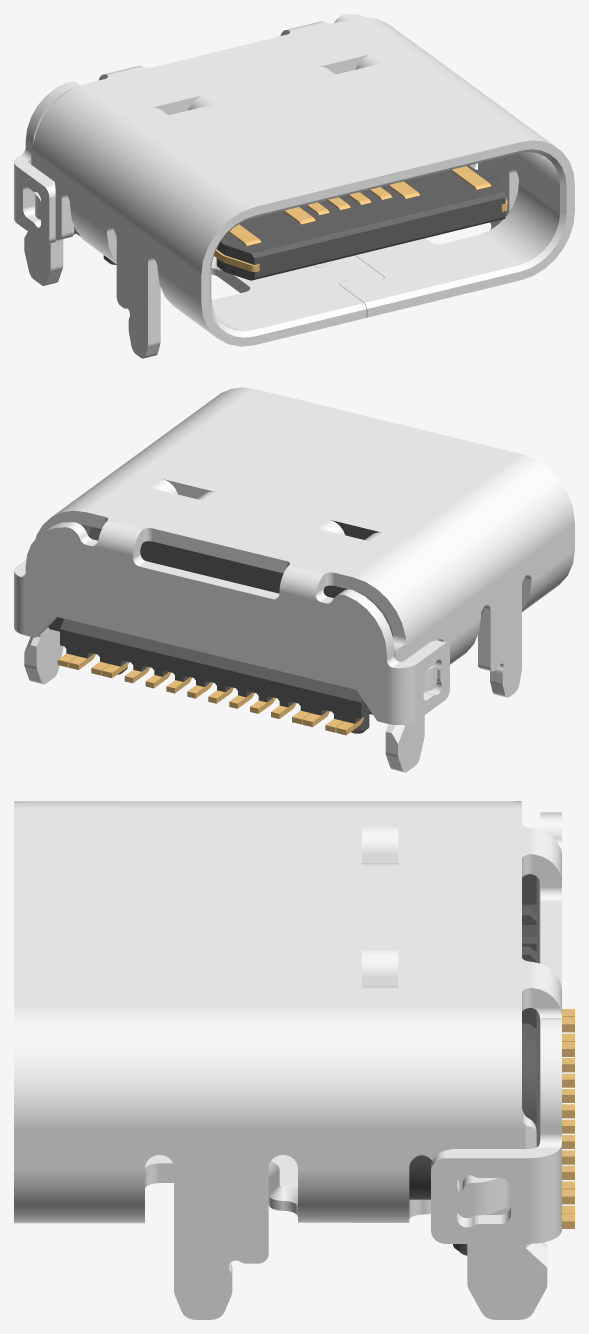
File: USB4105-GF-A-ed5b798d6198.glb
3 renders of one model, top to bottom at view 1: azimuth 30°, elevation 25°; view 2: azimuth 150°, elevation 25°; view 3: azimuth 270°, elevation 25°, orthographic. The views are drawn at different scales.
Visible parts, largest first — view 1: material1, material0, material2; view 2: material1, material0, material2; view 3: material1, material0, material2.
Boxes of the visible parts, x1=… form: material1: x1=14, y1=14, x2=574, y2=358; material0: x1=74, y1=165, x2=505, y2=280; material2: x1=214, y1=166, x2=507, y2=271; material1: x1=14, y1=387, x2=574, y2=772; material0: x1=48, y1=520, x2=393, y2=733; material2: x1=57, y1=653, x2=363, y2=735; material1: x1=14, y1=801, x2=561, y2=1319; material0: x1=409, y1=874, x2=540, y2=1255; material2: x1=562, y1=1009, x2=574, y2=1228.
Size of the model in its own units: 9.58 by 4.16 by 7.71.
